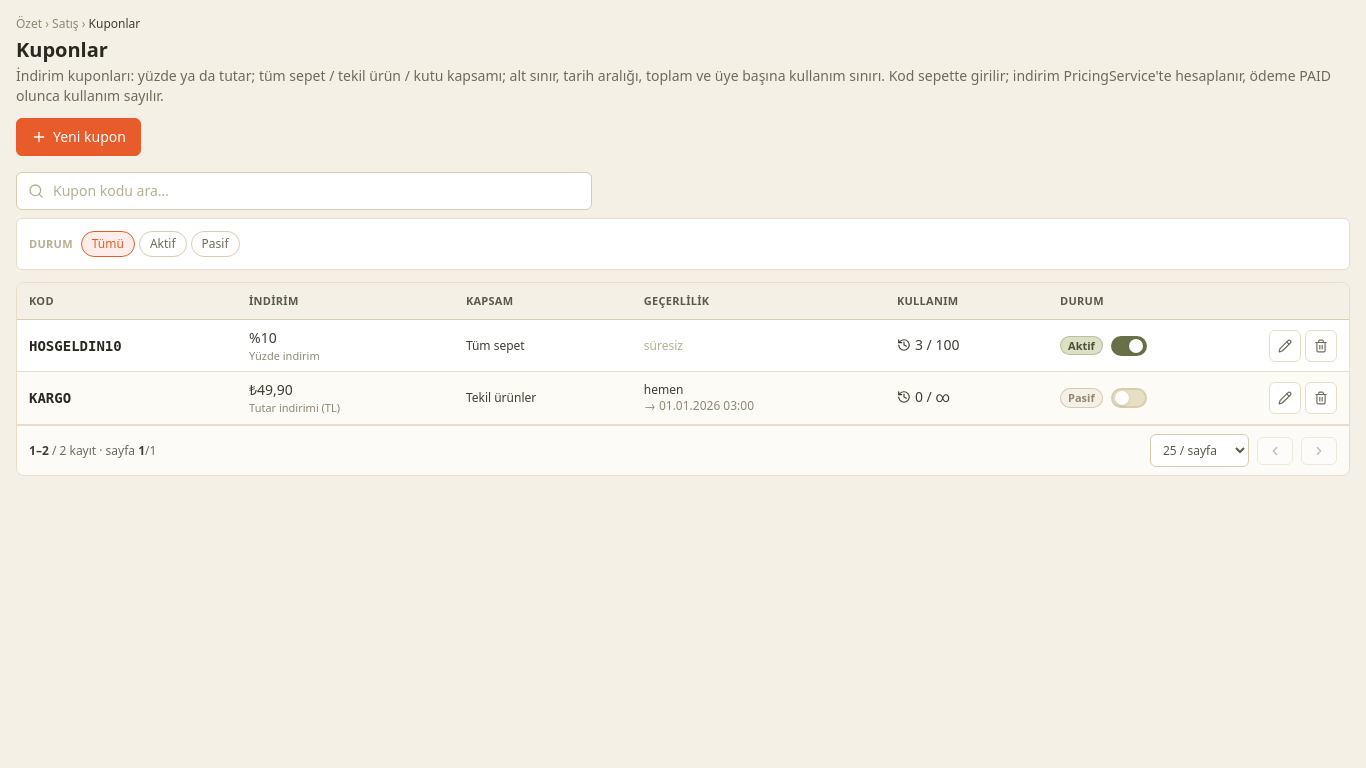
Test: AdminKuponlarPage › kullanımlar: GET /admin/coupons/:id → redemption satırı (sipariş bağlantısı)
Expected: the button "HOSGELDIN10" is shown, [29,336,122,356]
Click the button named "HOSGELDIN10 kullanımları": point(928, 344) [897,334,959,354]
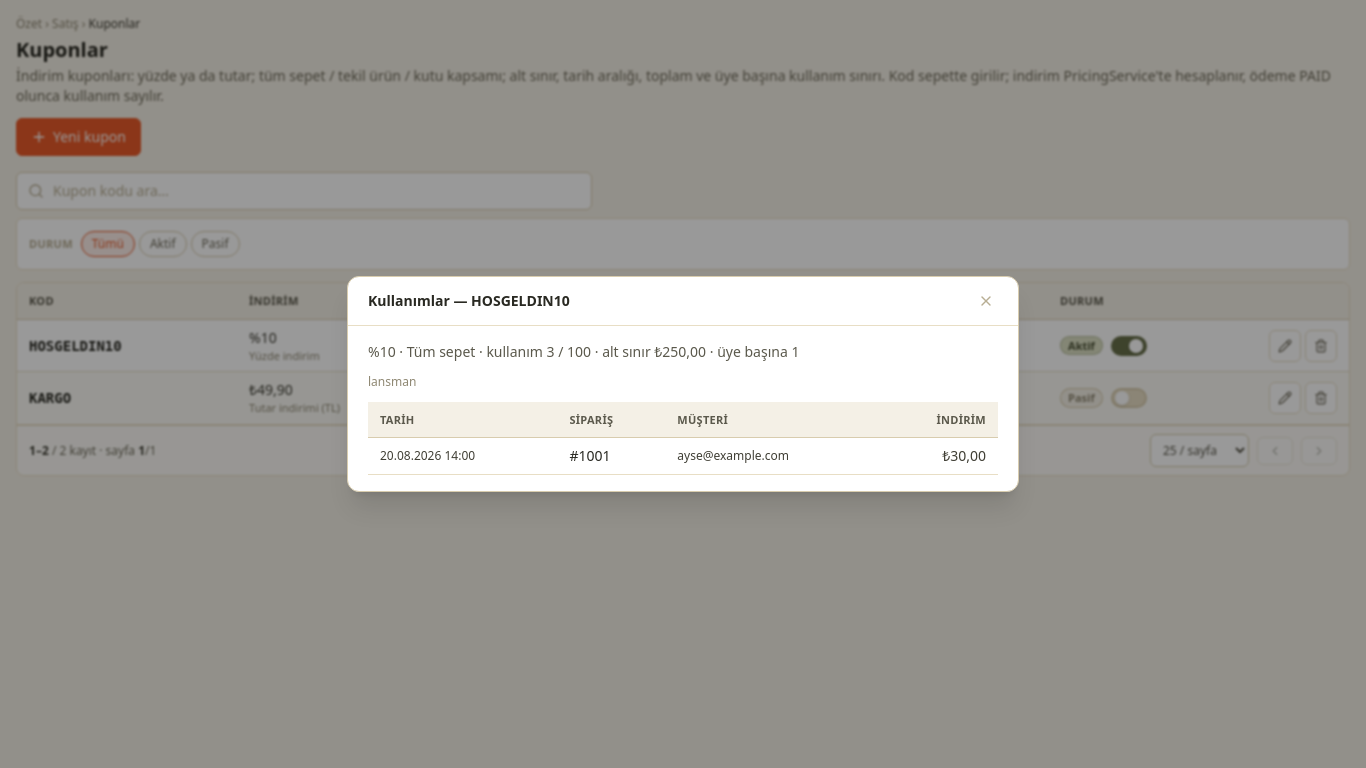
Result: the text "ayse@example.com" is shown at [665,438,881,475]
Result: the text "₺30,00" is shown at [881,438,998,475]
